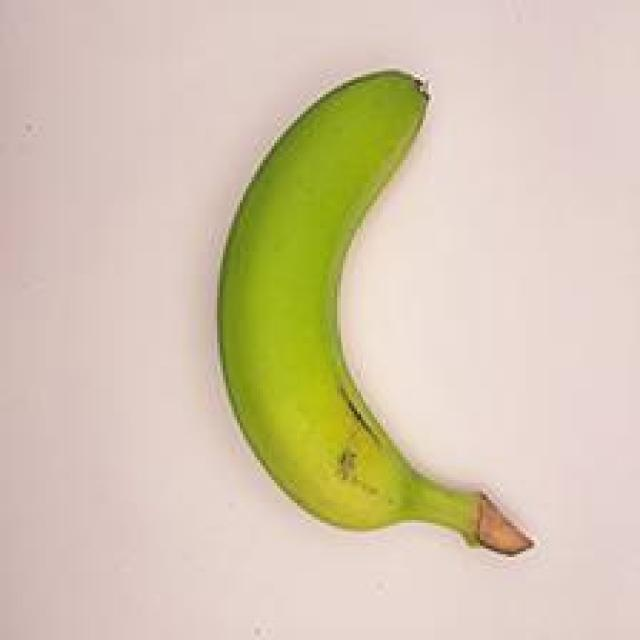Unripe: (202, 60, 560, 567)
